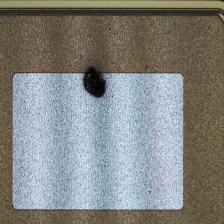PARTICLE: (74, 63, 114, 103)
